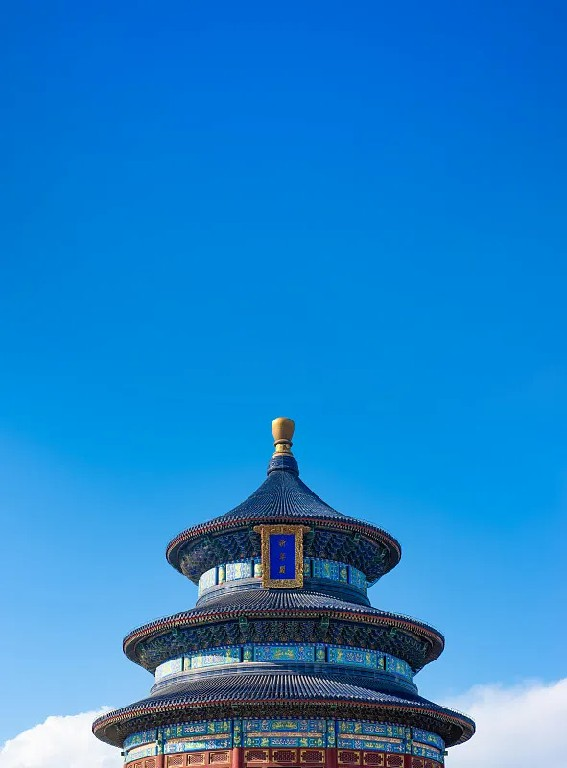Heaven: (88, 418, 477, 768)
